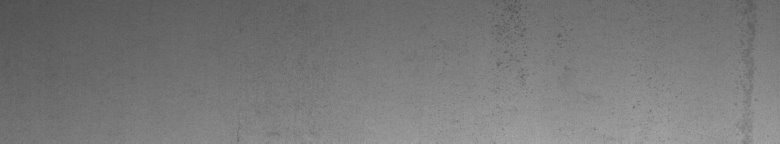ib: (496, 4, 572, 68)
